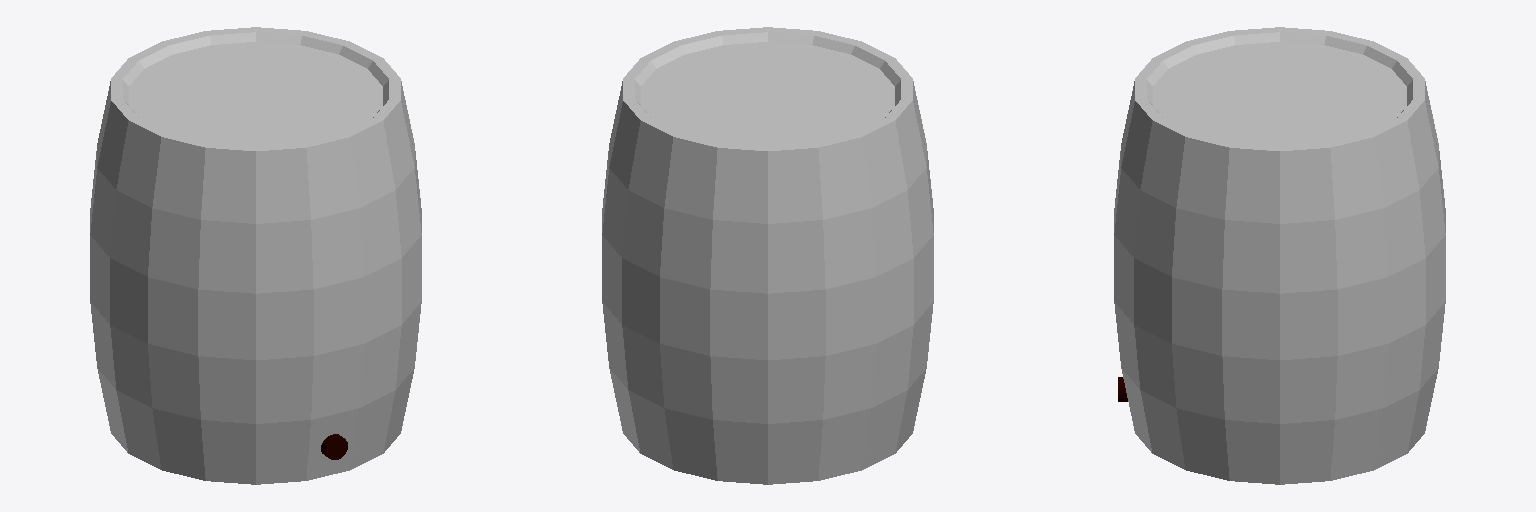
Rendered from barrel.obj.
The picture shows the model from 3 angles: view 1: azimuth 30°, elevation 25°; view 2: azimuth 150°, elevation 25°; view 3: azimuth 270°, elevation 25°; orthographic projection.
Visible parts, largest first — view 1: Cylinder004, Cylinder002; view 2: Cylinder004; view 3: Cylinder004.
Boxes of the visible parts, x1=… form: Cylinder004: x1=90, y1=27, x2=421, y2=484; Cylinder002: x1=321, y1=434, x2=347, y2=459; Cylinder004: x1=602, y1=27, x2=933, y2=484; Cylinder004: x1=1114, y1=27, x2=1445, y2=484.
Bounding box in the file's own units: 45.76 × 50 × 45.06.